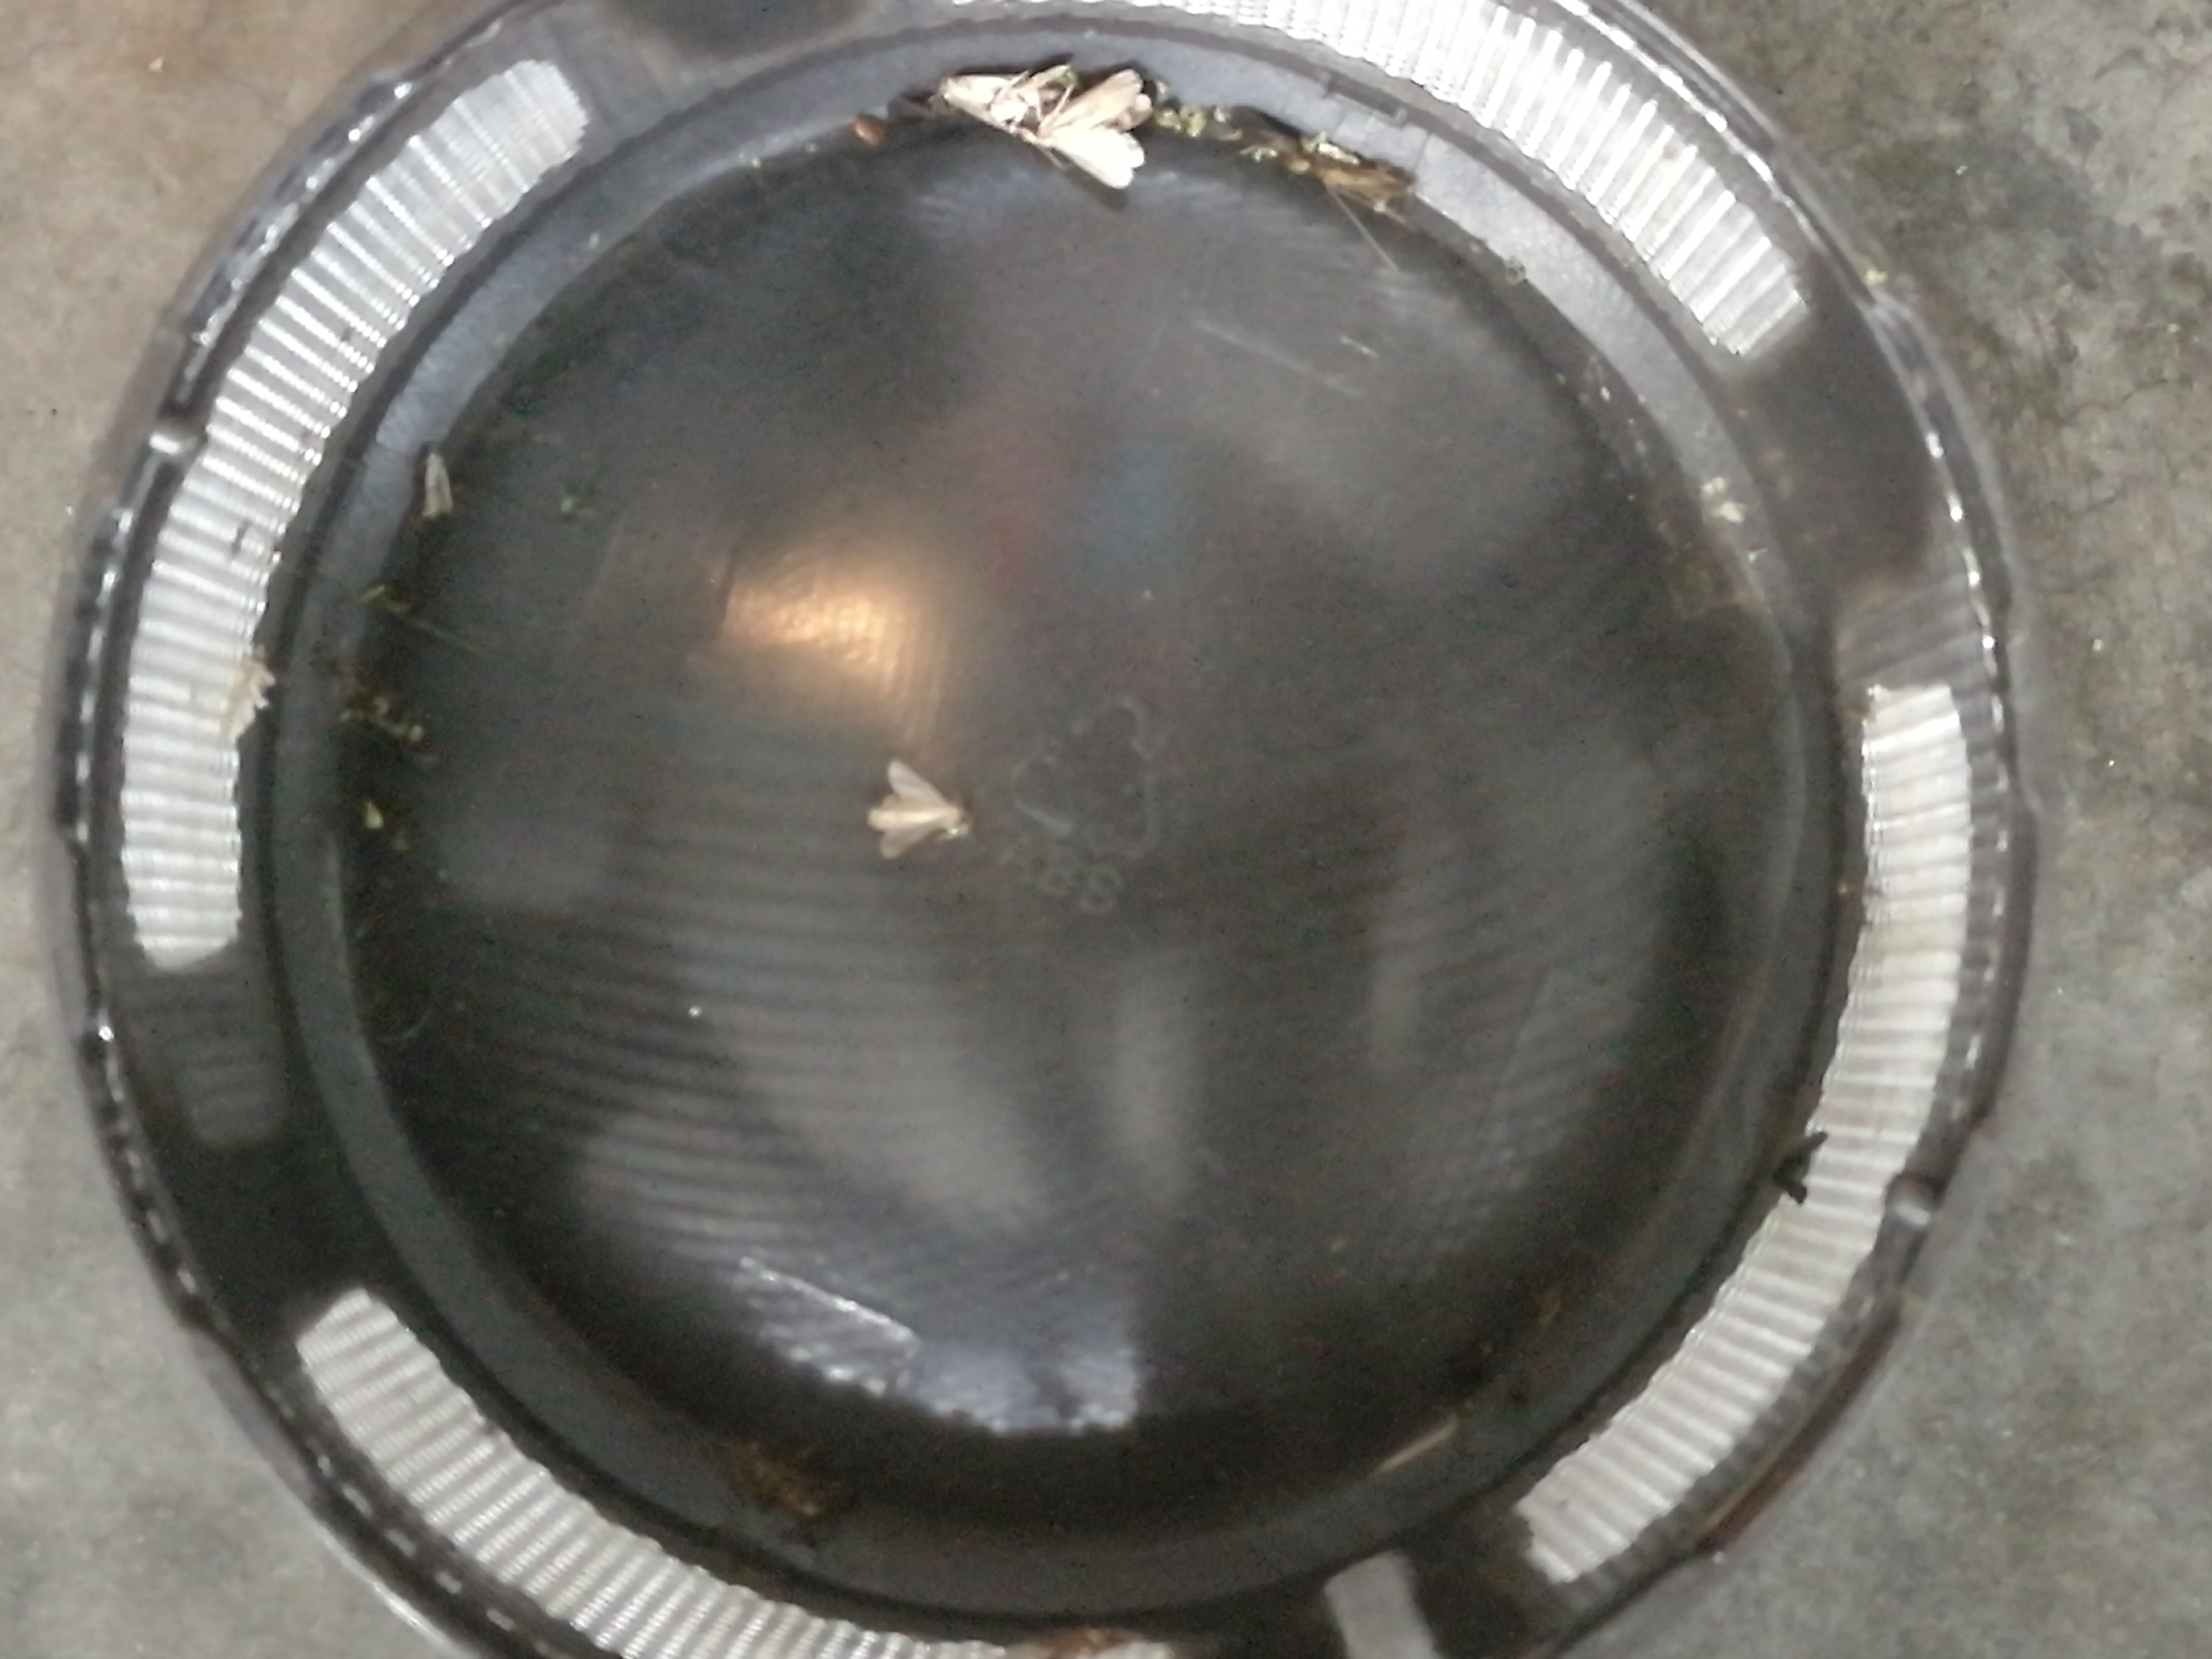moth: (1043, 68, 1151, 190), (874, 762, 961, 856), (937, 73, 1057, 129)
